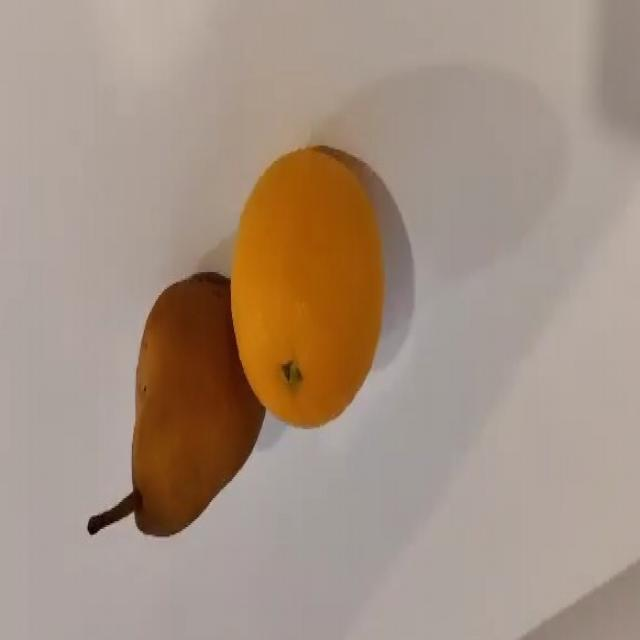Orange: (229, 144, 385, 428)
